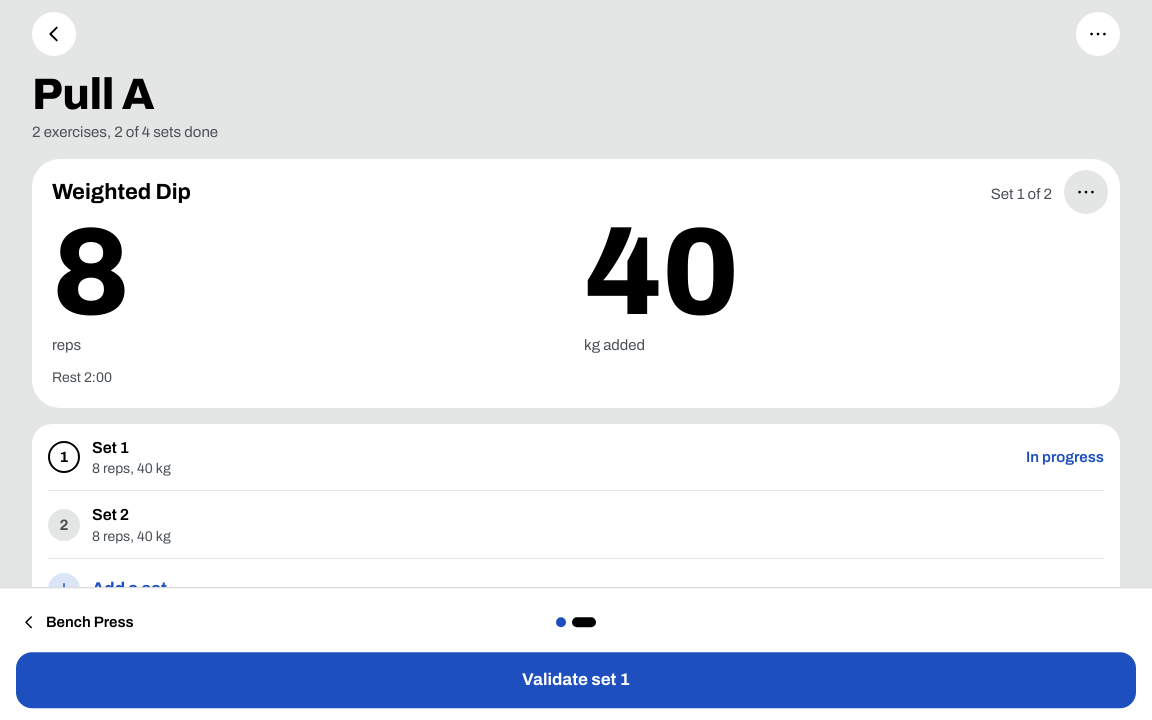
Scenario: a session confirmed on a network that is slow to answer › a refusal brings "Confirm session" back, and the sheet opens on the note that was written
The width and height of the screenshot is (1152, 720).
Expected: the text "2 exercises, 2 of 4 sets done" is shown, [32,124,218,140]
Click the button named "Session options": (1098, 34) [1076,12,1120,56]
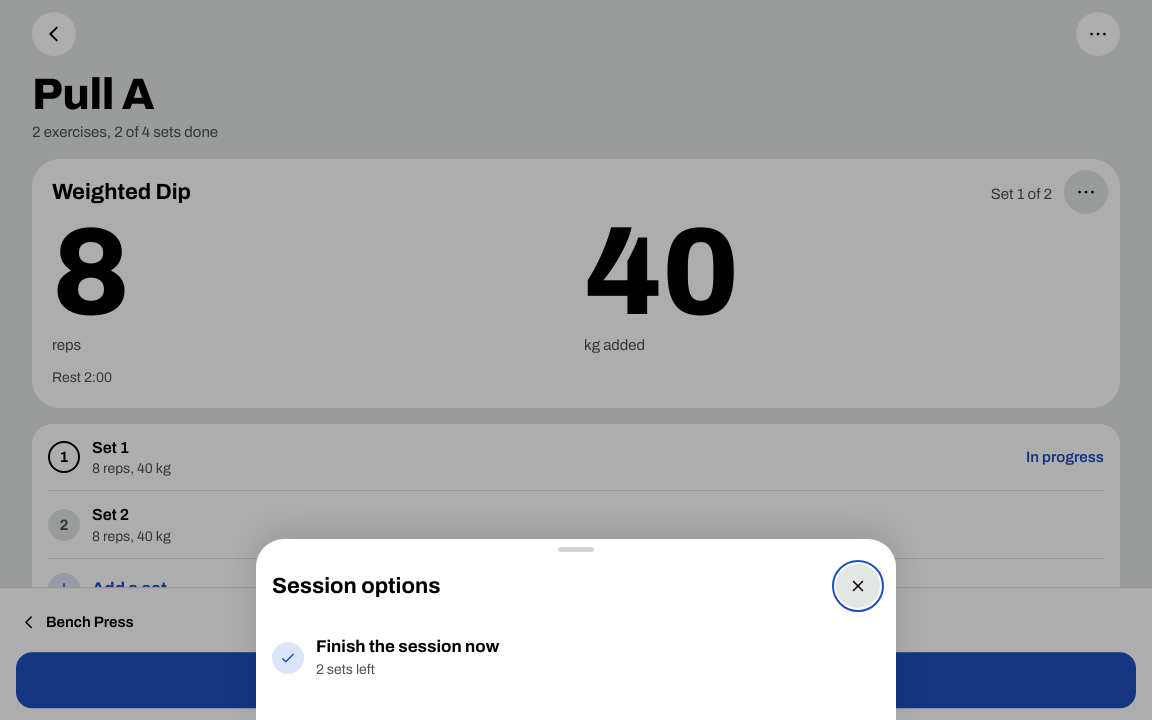
Click the button "Finish the session now 2 sets left": (288, 658) [272,624,880,692]
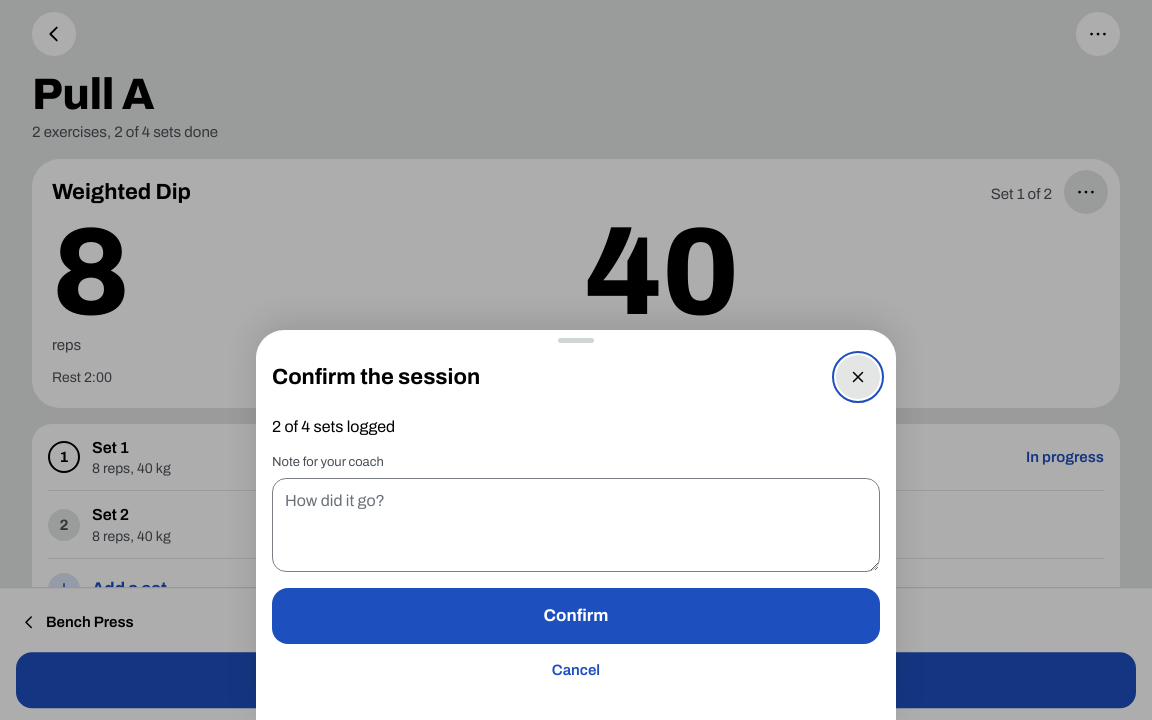
In the text box labelled "Note for your coach": (576, 525) [272,478,880,572], type "felt strong"
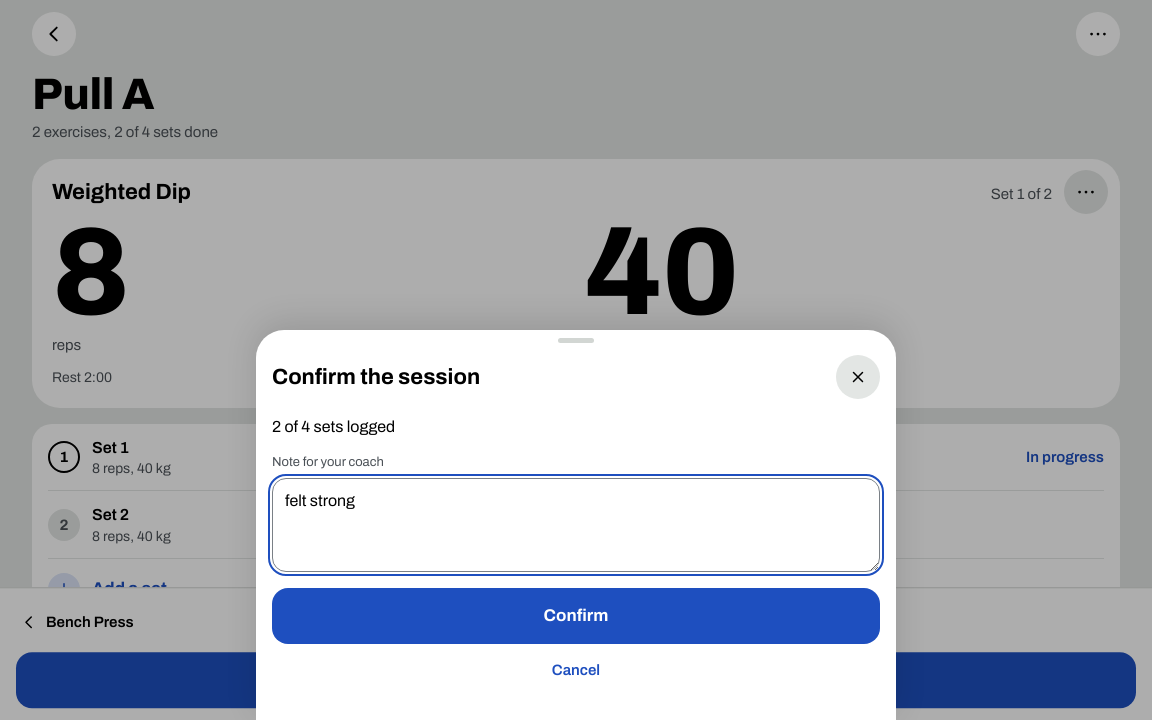
Click the button "Confirm": (576, 616) [272,588,880,644]
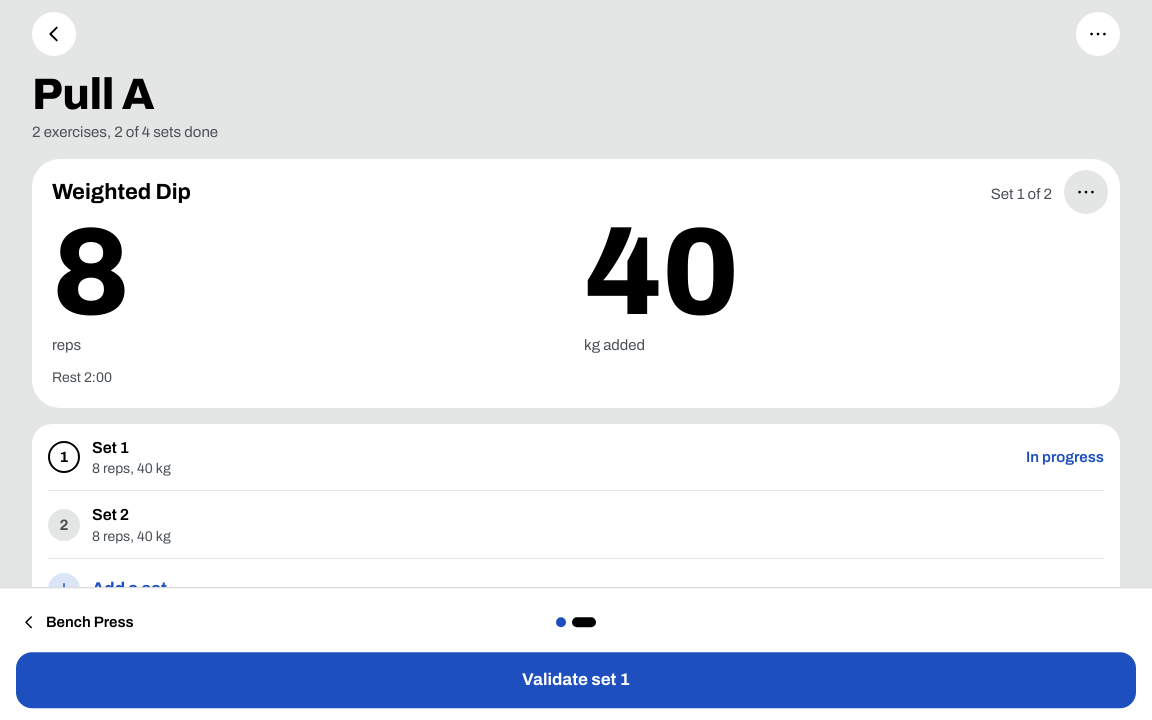
Click the button named "Session options": (1098, 34) [1076,12,1120,56]
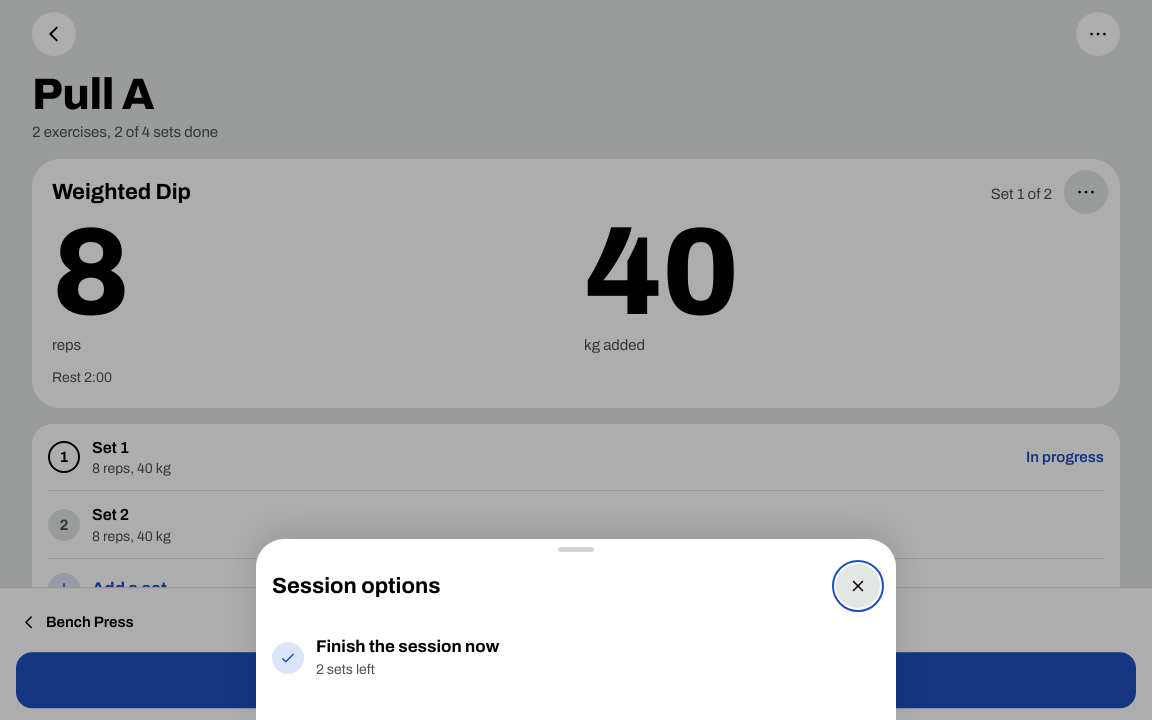
Click the button "Finish the session now 2 sets left": (288, 658) [272,624,880,692]
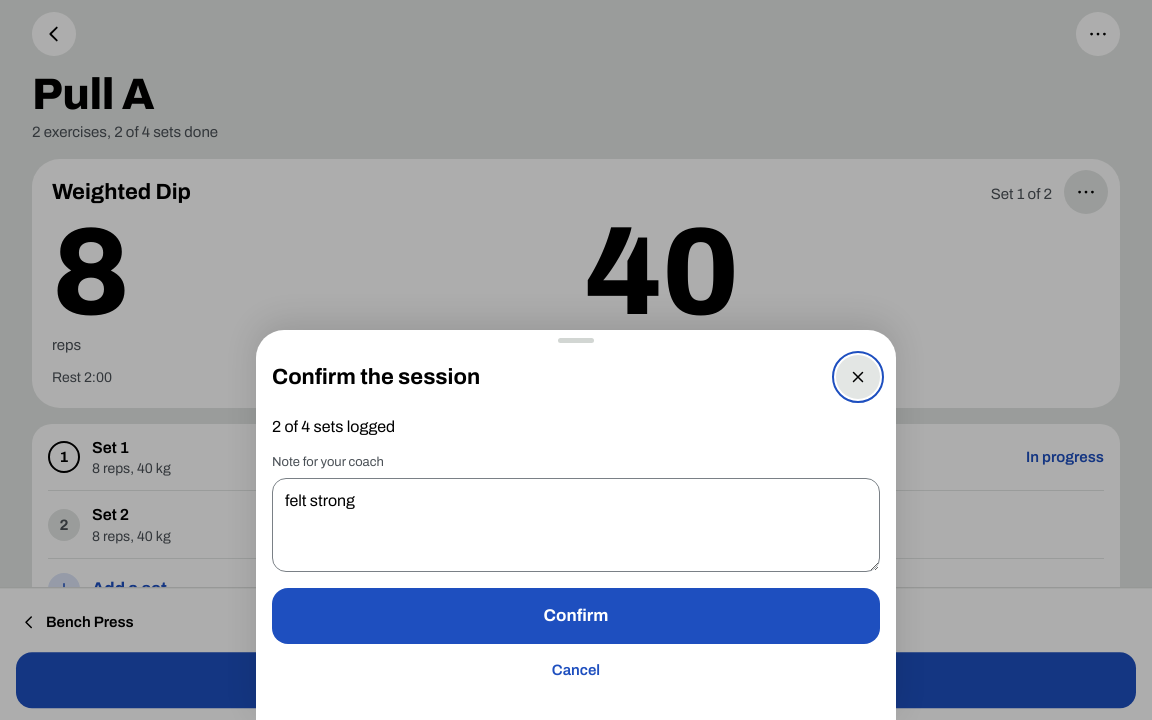
Now the text box labelled "Note for your coach" holds "felt strong", box [272,478,880,572]
